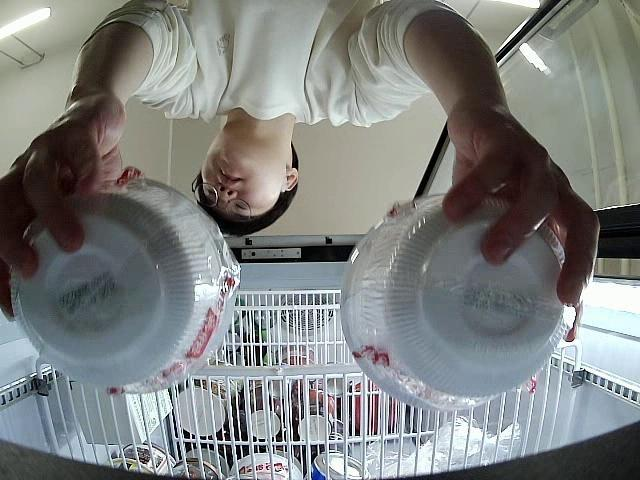09_yukGaeJang: (340, 192, 575, 412), (8, 176, 240, 395)
